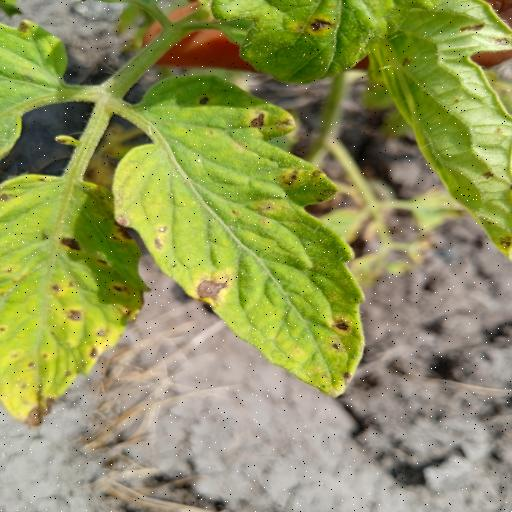Tomato_Brown_Spots: (112, 70, 376, 404)
